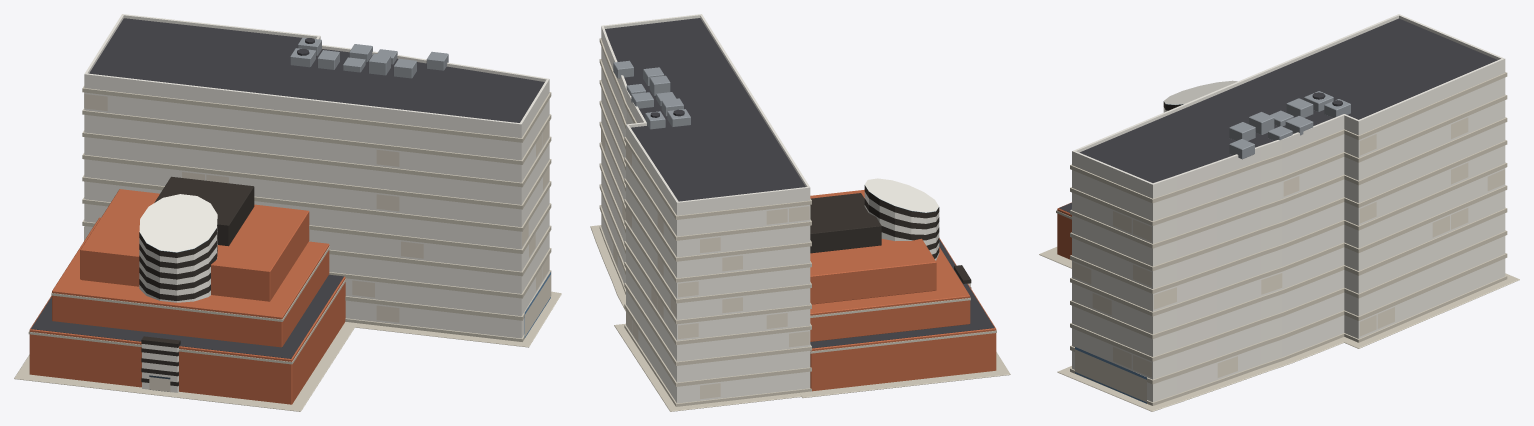
Rendered from 151-3rd-street.glb.
3 renders of one model, left to right at view 1: azimuth 30°, elevation 25°; view 2: azimuth 150°, elevation 25°; view 3: azimuth 270°, elevation 25°, orthographic. The views are drawn at different scales.
Parts seen in each view (by area): view 1: 151-3rd-street_body, 151-3rd-street_night_glow; view 2: 151-3rd-street_body, 151-3rd-street_night_glow; view 3: 151-3rd-street_body, 151-3rd-street_night_glow.
Part boxes in pixels (x1,y1,x2,y2): 151-3rd-street_body: (14,14,561,411); 151-3rd-street_night_glow: (84,93,551,391); 151-3rd-street_body: (590,14,1010,411); 151-3rd-street_night_glow: (601,129,938,399); 151-3rd-street_body: (1039,14,1519,411); 151-3rd-street_night_glow: (1072,80,1504,402).
Size of the model in its own units: 137 by 60 by 113.
